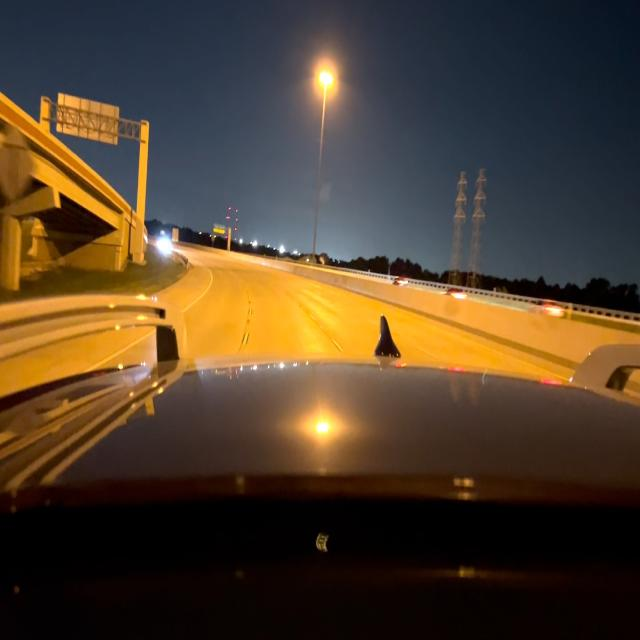back-of-sign: (57, 92, 118, 145), (0, 120, 32, 198)
